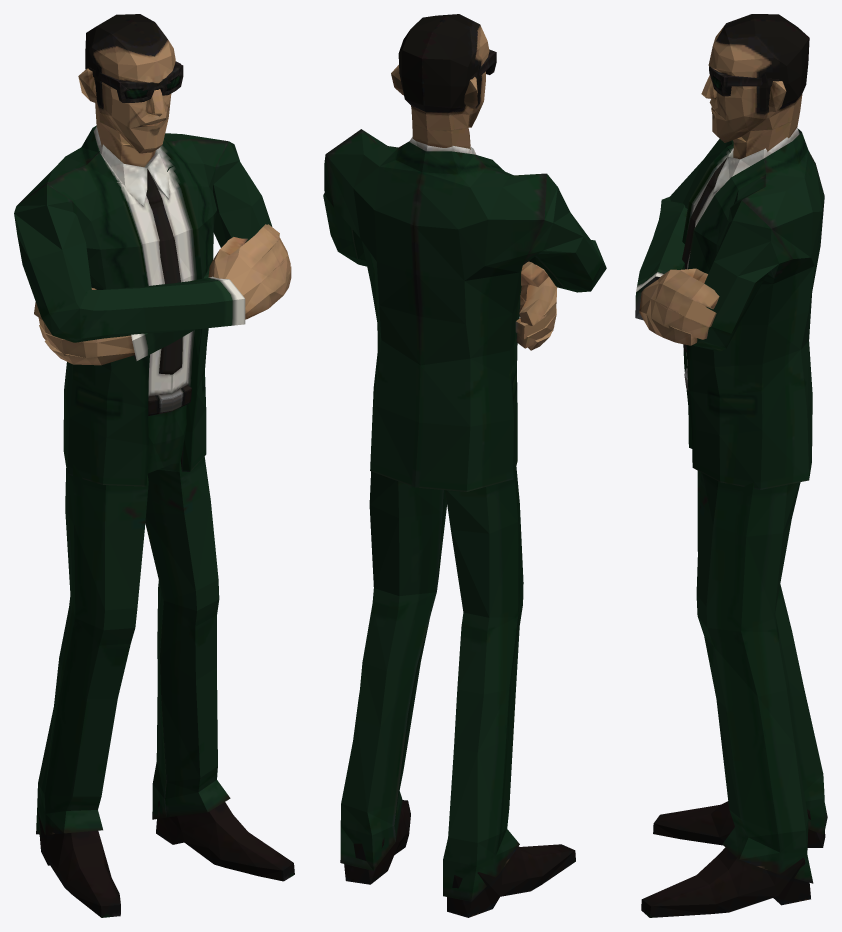
The model's file is Agent Six.obj.
3 views of the same model, side by side, from view 1: azimuth 30°, elevation 25°; view 2: azimuth 150°, elevation 25°; view 3: azimuth 270°, elevation 25° (orthographic). The views are drawn at different scales.
Parts seen in each view (by area): view 1: Inst3D_RefRep.3915; view 2: Inst3D_RefRep.3915; view 3: Inst3D_RefRep.3915.
Part boxes in pixels (x1,y1,x2,y2): Inst3D_RefRep.3915: (14,14,294,917); Inst3D_RefRep.3915: (323,14,606,917); Inst3D_RefRep.3915: (635,14,827,917).
Bounding box in the file's own units: 1.23 × 3.97 × 0.8166.
